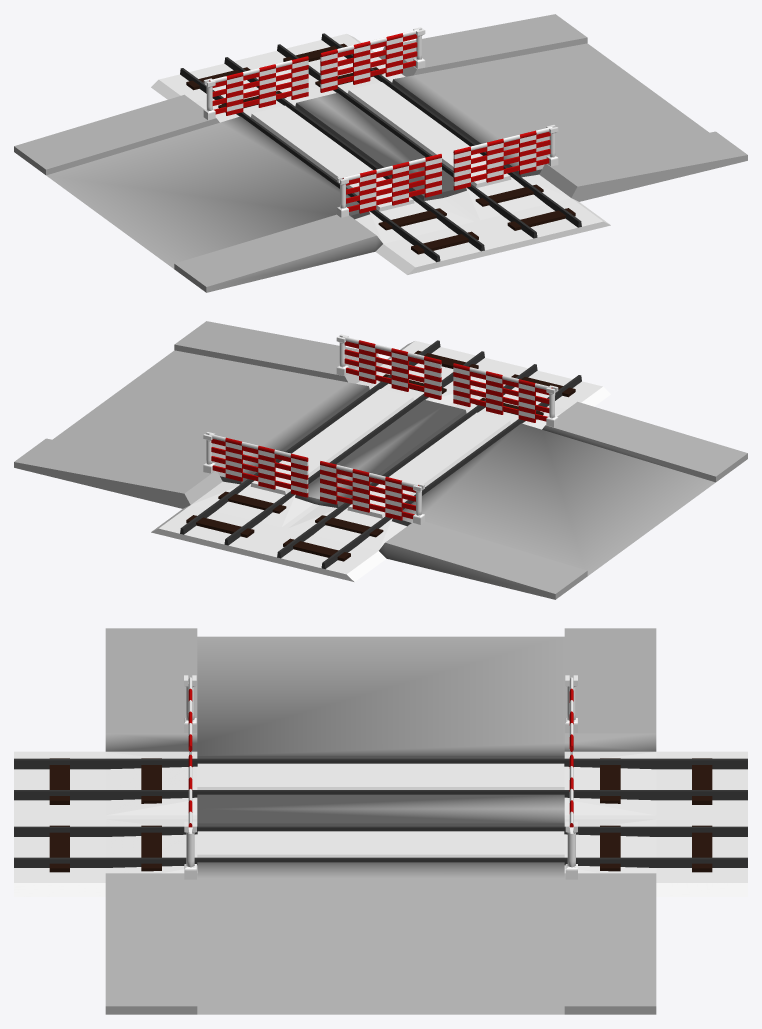
Rendered from DoubleTrack_Crossing.FBX.
The picture shows the model from 3 angles, top to bottom: view 1: azimuth 30°, elevation 25°; view 2: azimuth 150°, elevation 25°; view 3: azimuth 270°, elevation 25°; orthographic projection. The views are drawn at different scales.
Parts seen in each view (by area): view 1: DoubleTrack_Ground_Road, DoubleTrack_Ground_Track, DoubleTrack_Island_2, DoubleTrack_Island_3, DoubleTrack_Island_1, DoubleTrack_Gate_2, DoubleTrack_Gate_3, DoubleTrack_Gate_4, DoubleTrack_Gate_1, DoubleTrack_Rail_3, DoubleTrack_Rail_1, DoubleTrack_Rail_4 (+5 smaller); view 2: DoubleTrack_Ground_Road, DoubleTrack_Ground_Track, DoubleTrack_Island_2, DoubleTrack_Island_3, DoubleTrack_Island_1, DoubleTrack_Gate_4, DoubleTrack_Gate_3, DoubleTrack_Gate_1, DoubleTrack_Gate_2, DoubleTrack_Rail_3, DoubleTrack_Rail_1, DoubleTrack_Rail_4 (+5 smaller); view 3: DoubleTrack_Ground_Road, DoubleTrack_Ground_Track, DoubleTrack_Island_2, DoubleTrack_Island_3, DoubleTrack_Island_1, DoubleTrack_Rail_1, DoubleTrack_Rail_4, DoubleTrack_Rail_3, DoubleTrack_Rail_2, DoubleTrack_Gate_3, DoubleTrack_Gate_4, DoubleTrack_Sleeper_1 (+9 smaller).
Part boxes in pixels (box(x1,y1,x2,y2)): DoubleTrack_Ground_Road: box(14, 14, 747, 292); DoubleTrack_Ground_Track: box(151, 33, 610, 274); DoubleTrack_Island_2: box(295, 93, 466, 200); DoubleTrack_Island_3: box(347, 82, 511, 187); DoubleTrack_Island_1: box(251, 105, 414, 211); DoubleTrack_Gate_2: box(203, 56, 308, 120); DoubleTrack_Gate_3: box(453, 125, 558, 190); DoubleTrack_Gate_4: box(320, 27, 425, 92); DoubleTrack_Gate_1: box(337, 154, 441, 217); DoubleTrack_Rail_3: box(277, 44, 537, 238); DoubleTrack_Rail_1: box(180, 68, 440, 262); DoubleTrack_Rail_4: box(321, 33, 581, 227); DoubleTrack_Ground_Road: box(14, 321, 747, 599); DoubleTrack_Ground_Track: box(151, 340, 610, 581); DoubleTrack_Island_2: box(295, 400, 466, 507); DoubleTrack_Island_3: box(250, 389, 414, 494); DoubleTrack_Island_1: box(347, 412, 510, 518); DoubleTrack_Gate_4: box(203, 432, 308, 497); DoubleTrack_Gate_3: box(336, 334, 441, 399); DoubleTrack_Gate_1: box(453, 363, 558, 427); DoubleTrack_Gate_2: box(320, 461, 424, 524); DoubleTrack_Rail_3: box(224, 351, 484, 545); DoubleTrack_Rail_1: box(321, 375, 581, 569); DoubleTrack_Rail_4: box(180, 340, 440, 534); DoubleTrack_Ground_Road: box(105, 628, 656, 1014); DoubleTrack_Ground_Track: box(14, 751, 747, 896); DoubleTrack_Island_2: box(197, 794, 564, 826); DoubleTrack_Island_3: box(197, 831, 564, 857); DoubleTrack_Island_1: box(197, 763, 564, 789); DoubleTrack_Rail_1: box(14, 758, 747, 769); DoubleTrack_Rail_4: box(14, 857, 747, 867); DoubleTrack_Rail_3: box(14, 826, 747, 836); DoubleTrack_Rail_2: box(14, 790, 747, 800); DoubleTrack_Gate_3: box(184, 754, 196, 879); DoubleTrack_Gate_4: box(565, 754, 577, 879); DoubleTrack_Sleeper_1: box(692, 825, 712, 872).
Bounding box in the file's own units: 975 × 800 × 90.99.
